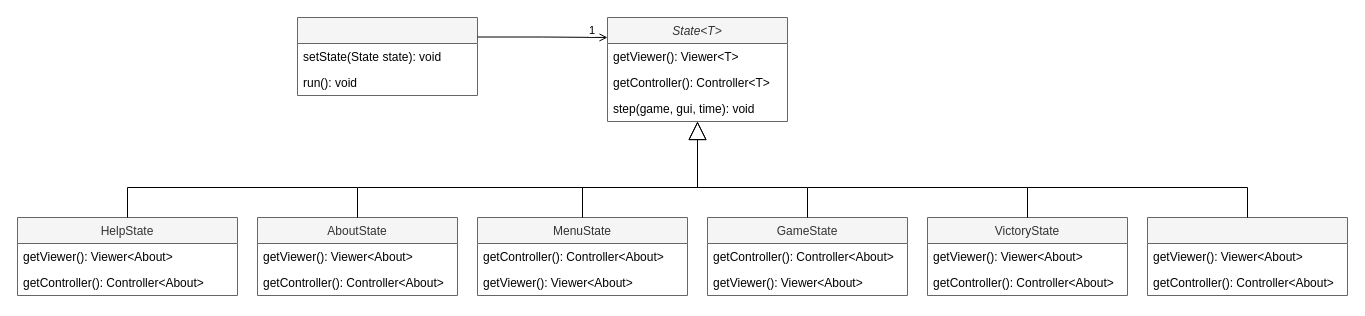
The diagram is 1365 pixels wide and 316 high, and some of its shapes have lost their labels. The shapes that lost their labels are listed below. From the top down, each one's box as (x1, y1, x2, y2) in pixels, then its label:
(296, 16, 478, 96): Game
(1146, 216, 1348, 296): GameOverState
